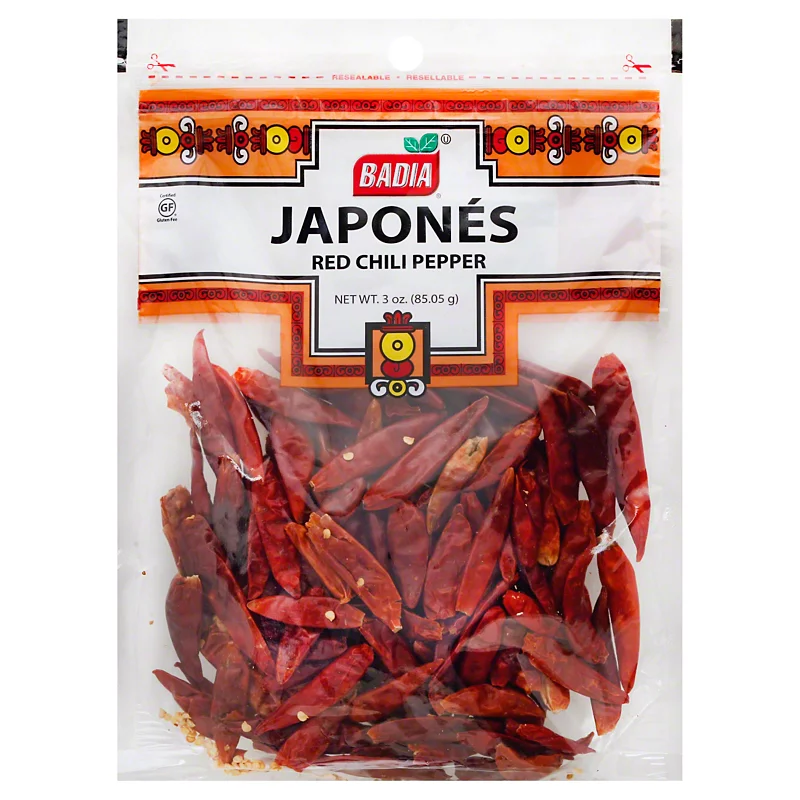Cabai: (236, 412, 617, 720)
